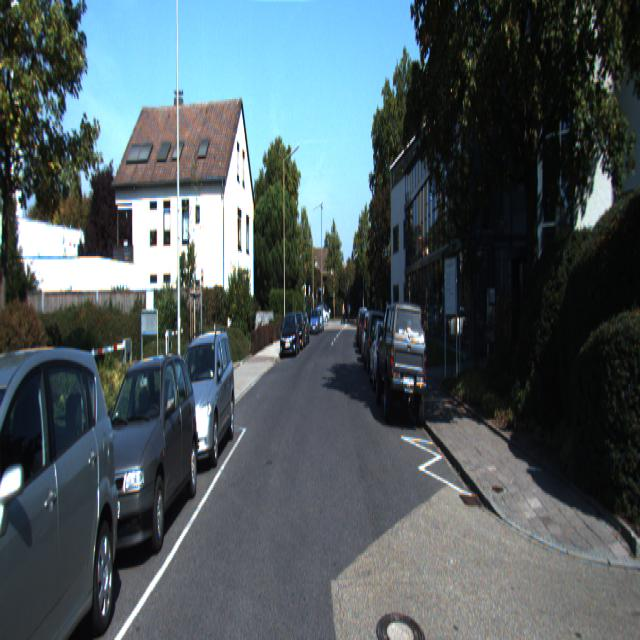Car: (0, 328, 124, 638), (82, 345, 202, 568), (161, 325, 236, 474), (376, 296, 429, 429), (369, 316, 401, 392), (363, 308, 388, 375), (360, 311, 380, 364), (280, 312, 300, 358), (310, 309, 321, 336)
